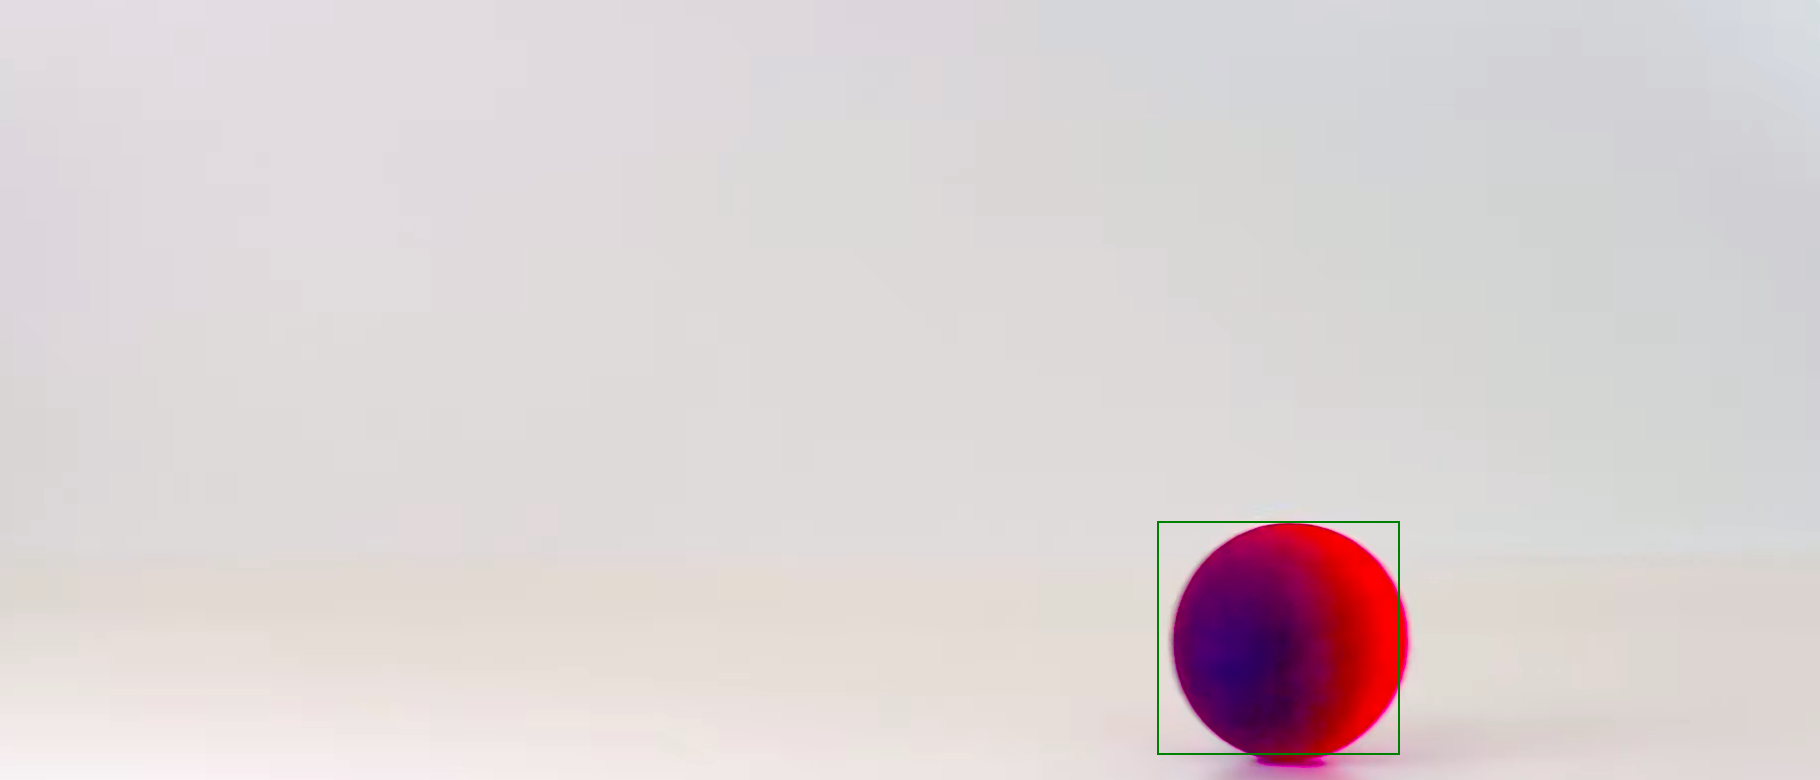Circle: (1170, 523, 1411, 764)
